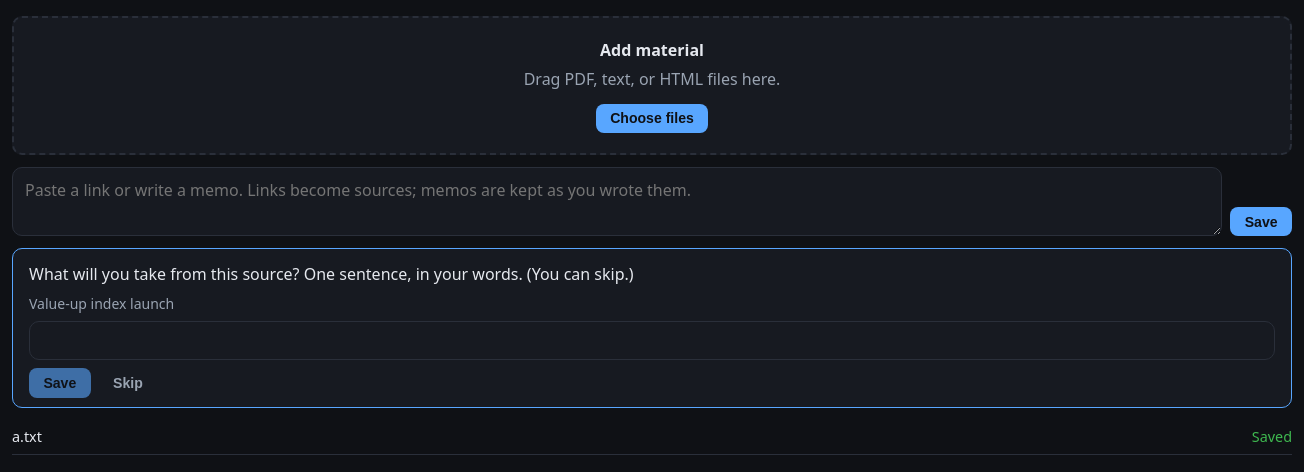
Test: Takeaway after saving a source › asks for one line and can be skipped
Type "Joining an index is not a re-rating." into the field named "My takeaway" at (652, 341), box [29, 321, 1275, 360]
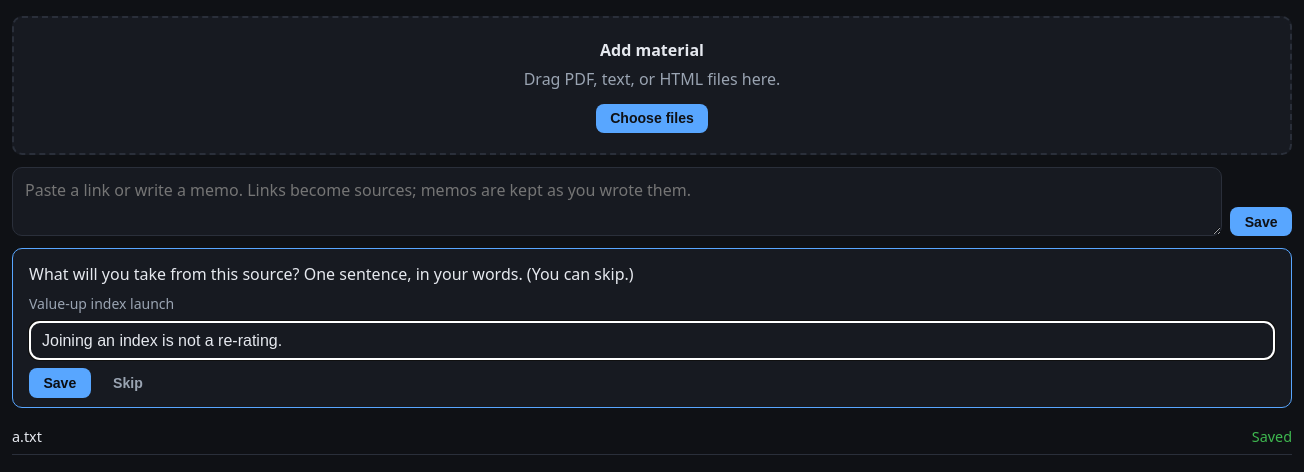
Click the button "Save" below "Value-up index launch" at (60, 383), box [29, 368, 91, 398]
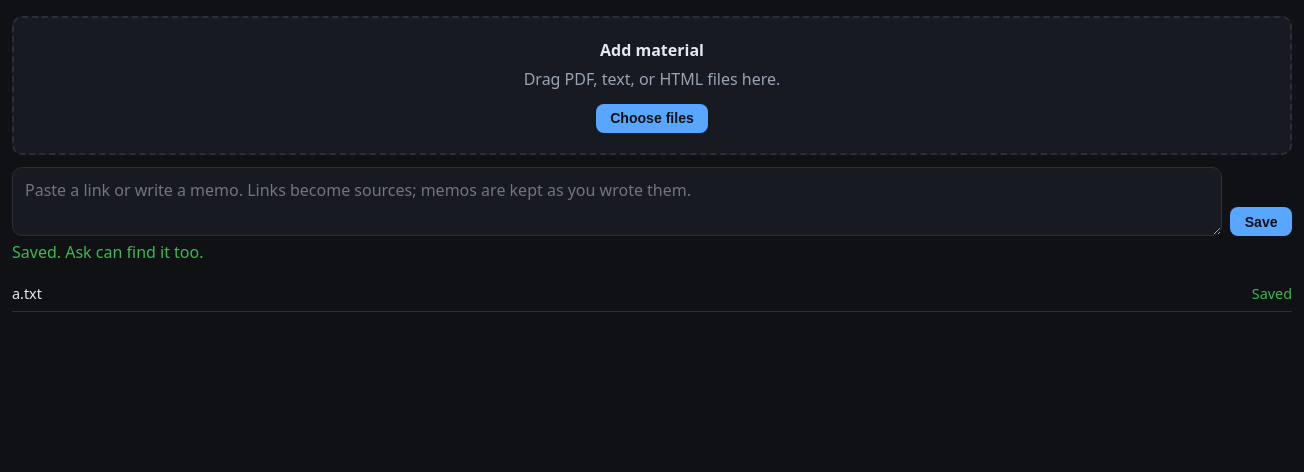
Expected: the text "Saved. Ask can find it too." is shown, [12, 241, 204, 263]
